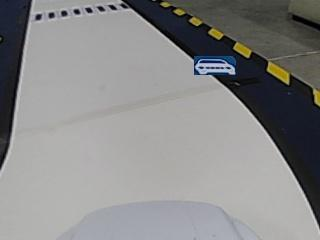crosswalk: (34, 3, 129, 20)
